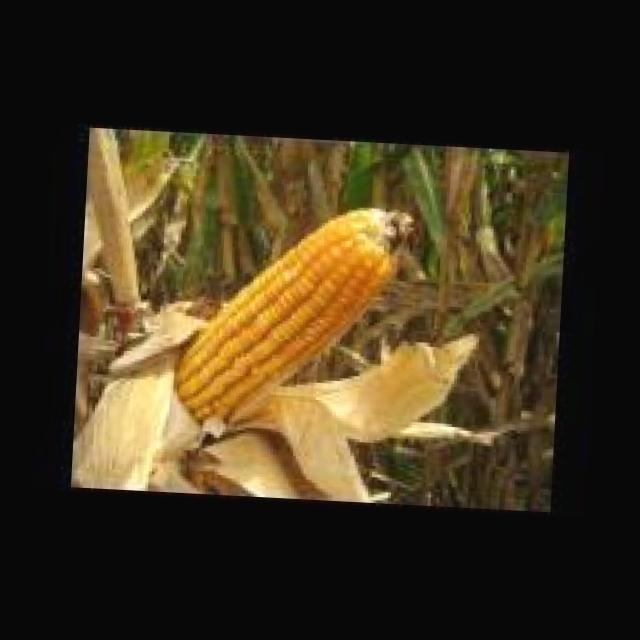corn: (173, 210, 411, 494)
